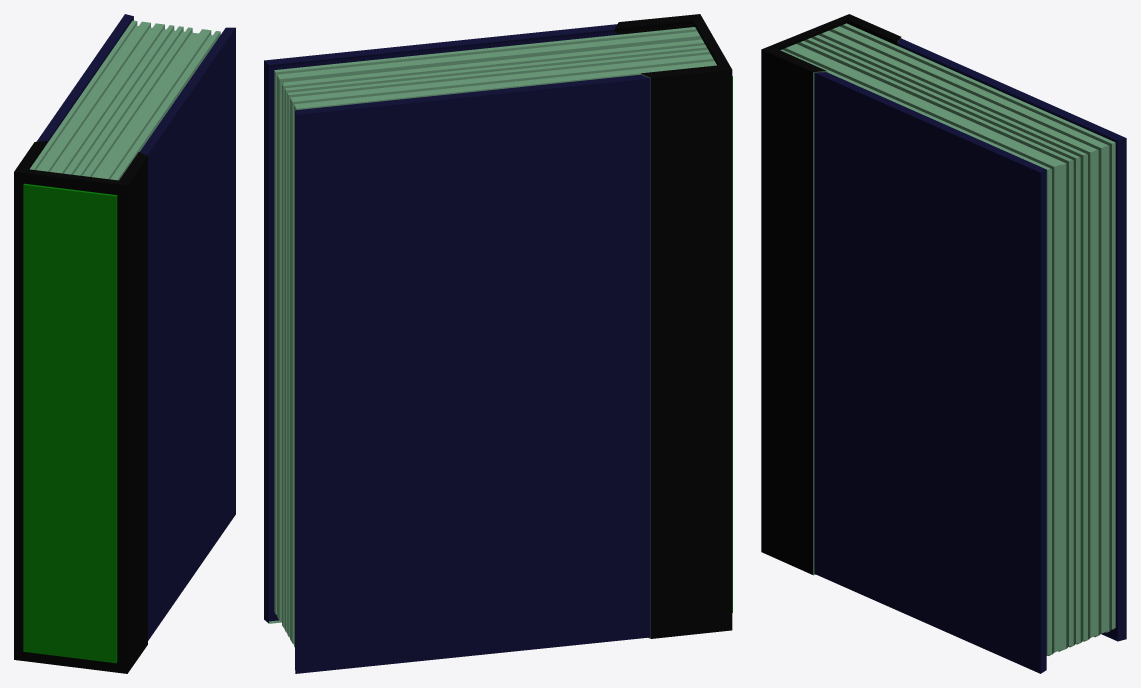
File: ThirdShelfBook9.fbx
3 renders of one model, left to right at view 1: azimuth 30°, elevation 25°; view 2: azimuth 150°, elevation 25°; view 3: azimuth 270°, elevation 25°, orthographic. The views are drawn at different scales.
Parts seen in each view (by area): view 1: SmallBook.001; view 2: SmallBook.001; view 3: SmallBook.001.
Boxes of the visible parts, bbox=[...] form: SmallBook.001: bbox=[14, 14, 235, 673]; SmallBook.001: bbox=[264, 14, 732, 673]; SmallBook.001: bbox=[761, 14, 1126, 673].
Size of the model in its own units: 100 by 149 by 98.06.
